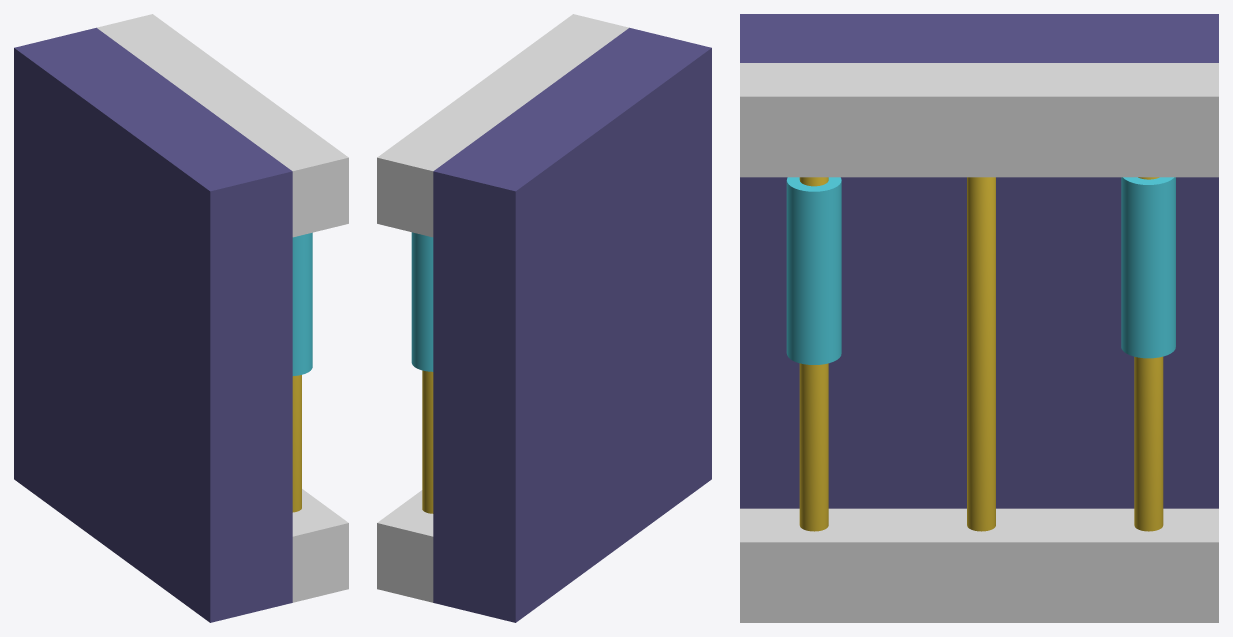
File: Bob1.fbx
3 renders of one model, left to right at view 1: azimuth 30°, elevation 25°; view 2: azimuth 150°, elevation 25°; view 3: azimuth 270°, elevation 25°, orthographic. The views are drawn at different scales.
Visible parts, largest first — view 1: Cube, Cylinder.003, Cylinder; view 2: Cube, Cylinder.003, Cylinder; view 3: Cube, Cylinder, Cylinder.003.
Boxes of the visible parts, x1,y1,x2,y2 form: Cube: (14, 14, 348, 622); Cylinder.003: (292, 232, 312, 375); Cylinder: (292, 375, 301, 512); Cube: (377, 14, 711, 622); Cylinder.003: (411, 232, 433, 371); Cylinder: (422, 370, 433, 513); Cube: (740, 14, 1218, 622); Cylinder: (799, 177, 1163, 531); Cylinder.003: (786, 177, 1175, 364).
Bounding box in the file's own units: 81.61 × 243 × 200.
